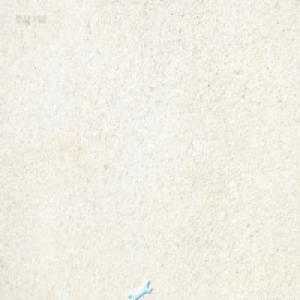Wrench: (127, 279, 152, 299)
